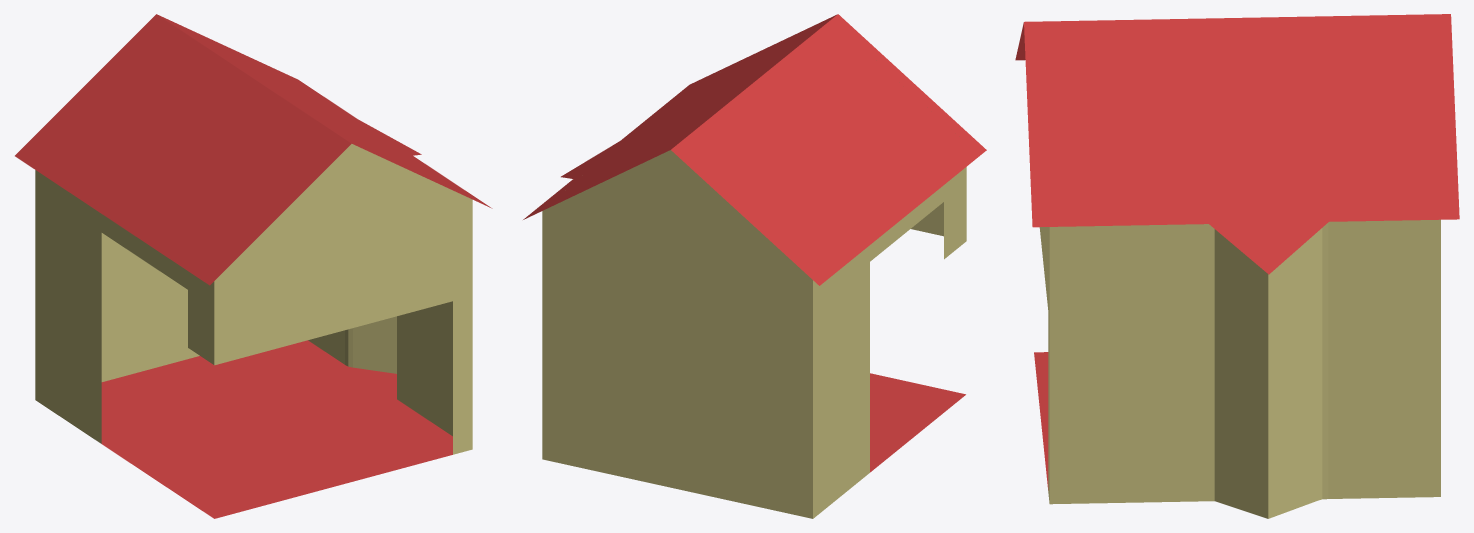
The picture shows the model from 3 angles, left to right: view 1: azimuth 30°, elevation 25°; view 2: azimuth 150°, elevation 25°; view 3: azimuth 270°, elevation 25°; orthographic projection. The views are drawn at different scales.
Bounding box in the file's own units: 12.67 × 12.42 × 12.55.
